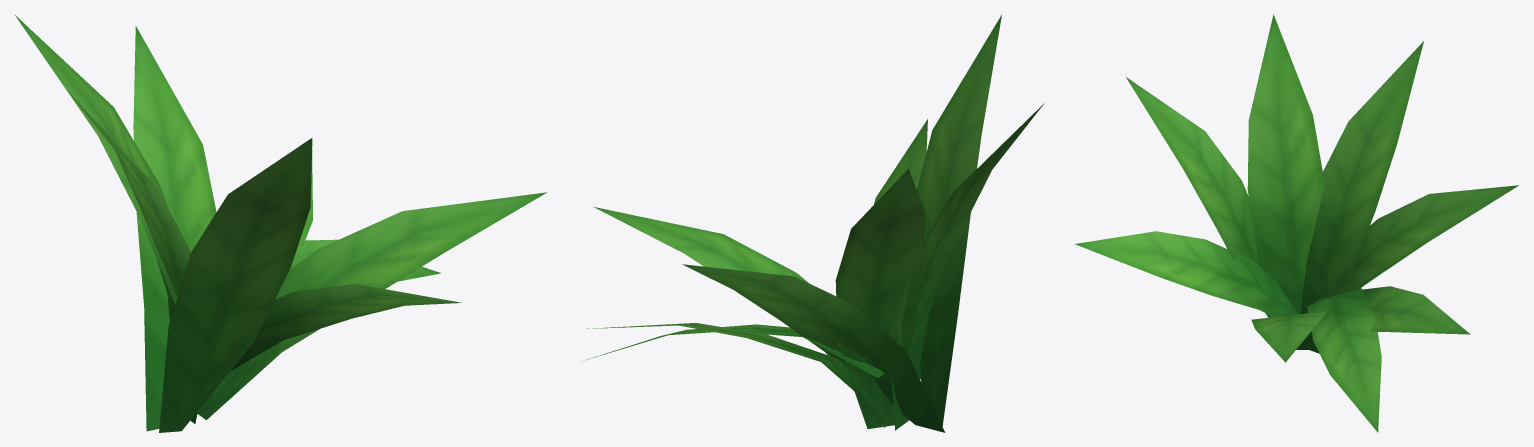
File: Grass_02.FBX
3 views of the same model, side by side, from view 1: azimuth 30°, elevation 25°; view 2: azimuth 150°, elevation 25°; view 3: azimuth 270°, elevation 25° (orthographic). The views are drawn at different scales.
Visible parts, largest first — view 1: Plane040; view 2: Plane040; view 3: Plane040.
Part boxes in pixels (x1,y1,x2,y2): Plane040: (14,14,546,432); Plane040: (585,15,1044,432); Plane040: (1075,14,1518,432).
Size of the model in its own units: 2.25 by 1.65 by 2.37.
